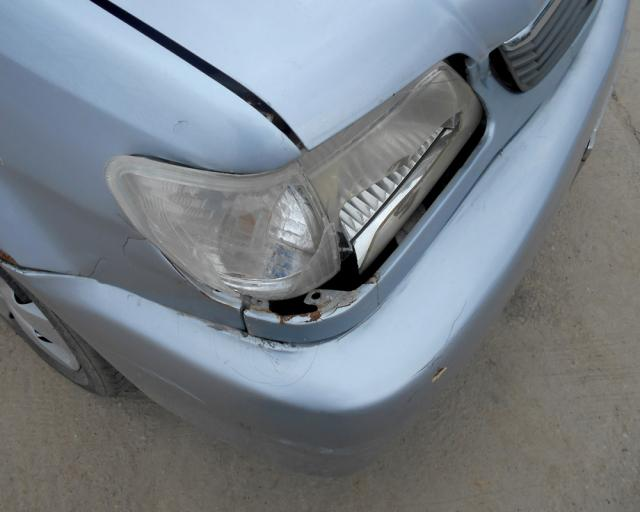lamp broken: (106, 60, 485, 308)
